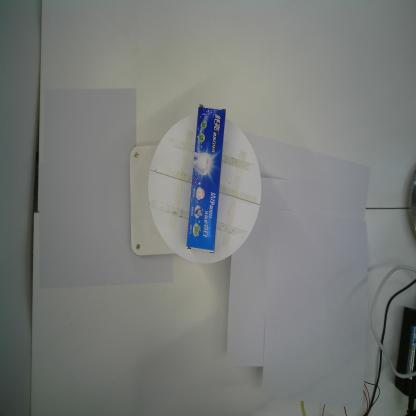Personal Hygiene: (186, 105, 226, 253)
